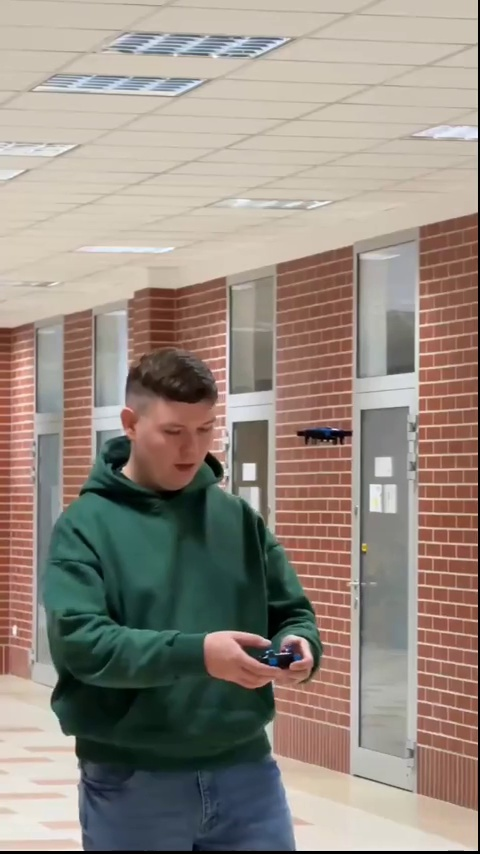drone: (300, 425, 351, 447)
no vest: (52, 344, 316, 837)
